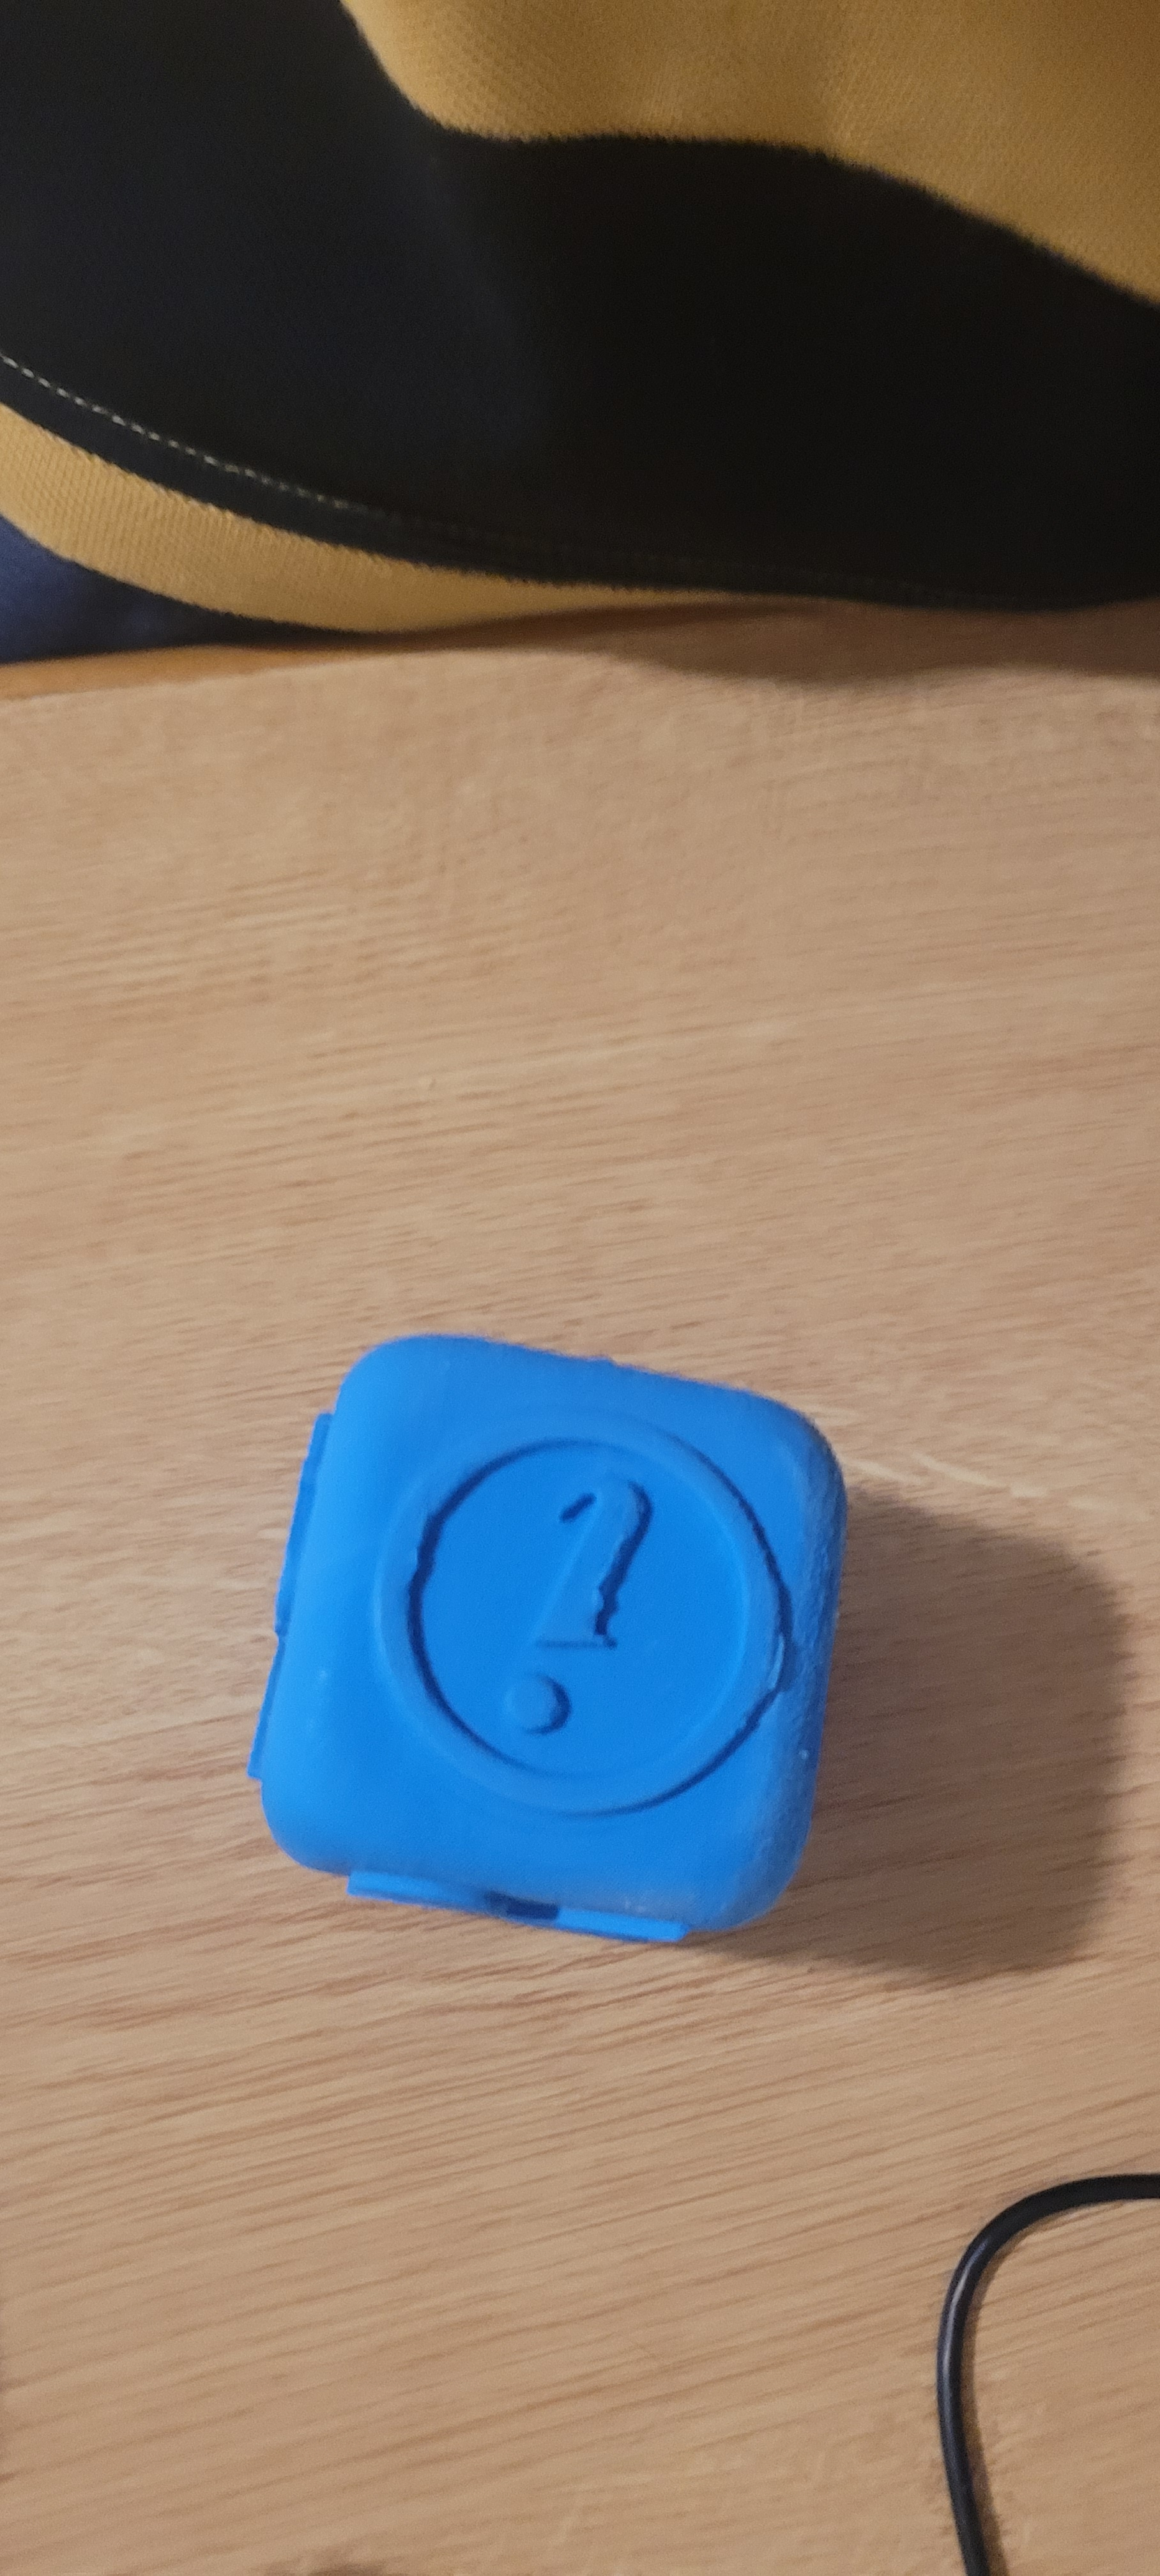Info: (347, 1357, 790, 1861)
